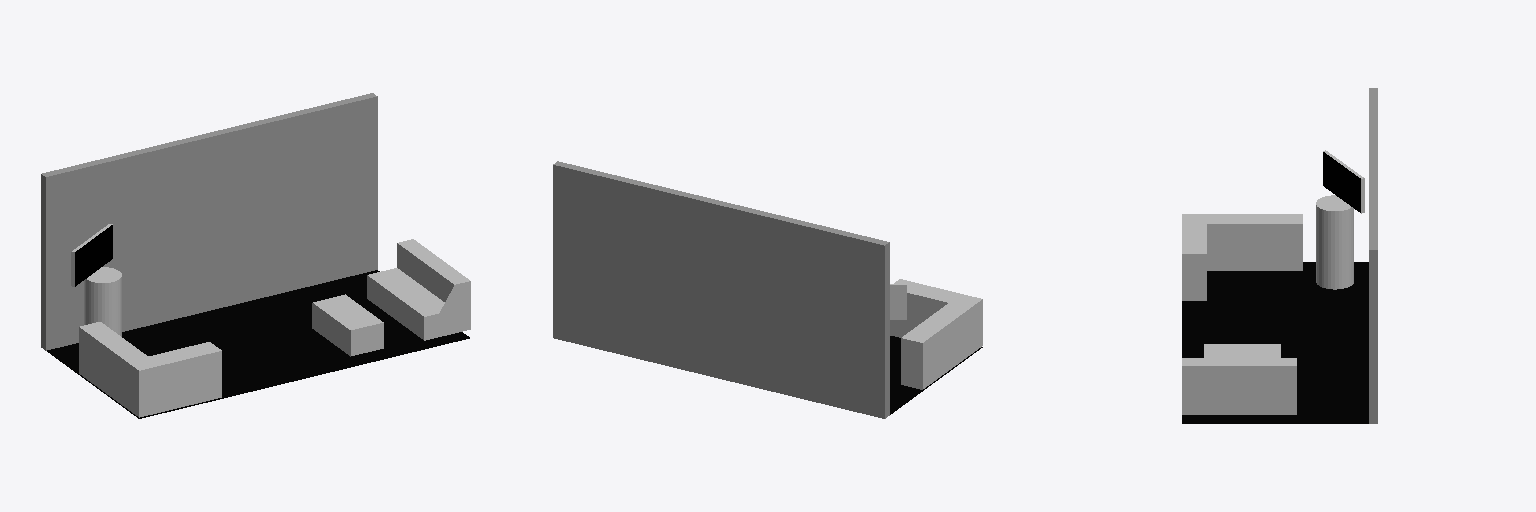
File: booth.obj
The picture shows the model from 3 angles: view 1: azimuth 30°, elevation 25°; view 2: azimuth 150°, elevation 25°; view 3: azimuth 270°, elevation 25°; orthographic projection.
Parts seen in each view (by area): view 1: Wall_Plane.001, Floor_Plane, Couch_Plane.002, Shelves.001_Cube.002, Shelves_Cube, Coffee_Table_Cube.001, Podium_Cylinder, iMac_Cube.003; view 2: Wall_Plane.001, Shelves_Cube, Shelves.001_Cube.002, Floor_Plane, iMac_Cube.003; view 3: Floor_Plane, Couch_Plane.002, Shelves_Cube, Podium_Cylinder, Wall_Plane.001, Shelves.001_Cube.002, iMac_Cube.003, Coffee_Table_Cube.001.
Part boxes in pixels (x1,y1,x2,y2): Wall_Plane.001: (41, 93, 377, 350); Floor_Plane: (47, 270, 469, 418); Couch_Plane.002: (367, 239, 470, 340); Shelves.001_Cube.002: (127, 342, 221, 417); Shelves_Cube: (79, 322, 147, 407); Coffee_Table_Cube.001: (312, 294, 383, 356); Podium_Cylinder: (84, 267, 121, 336); iMac_Cube.003: (71, 224, 112, 286); Wall_Plane.001: (553, 161, 889, 418); Shelves_Cube: (901, 303, 969, 389); Shelves.001_Cube.002: (890, 279, 982, 354); Floor_Plane: (890, 336, 982, 414); iMac_Cube.003: (890, 284, 906, 319); Floor_Plane: (1182, 262, 1368, 423); Couch_Plane.002: (1182, 358, 1296, 414); Shelves_Cube: (1207, 214, 1302, 270); Podium_Cylinder: (1316, 195, 1353, 289); Wall_Plane.001: (1369, 88, 1377, 423); Shelves.001_Cube.002: (1182, 214, 1206, 300); iMac_Cube.003: (1323, 150, 1364, 213); Coffee_Table_Cube.001: (1204, 344, 1280, 357).
Bounding box in the file's own units: 20 × 10 × 10.25.